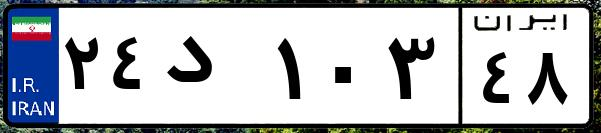0: (330, 28, 385, 110)
1: (270, 28, 330, 110)
2: (57, 26, 110, 100)
3: (385, 28, 445, 110)
4: (475, 38, 525, 113), (110, 28, 158, 98)
8: (525, 38, 570, 115)
د: (158, 20, 270, 120)
